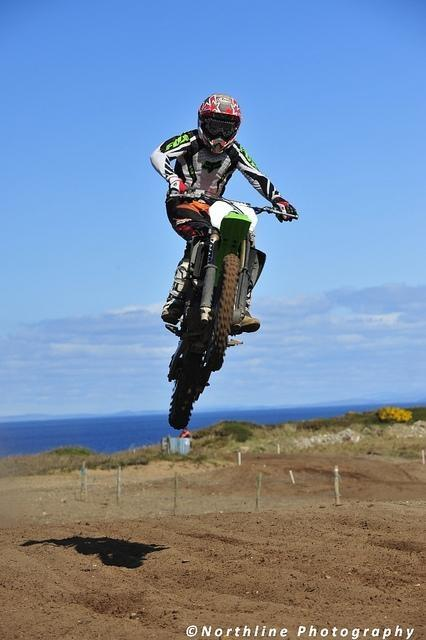motorcycle: (160, 181, 299, 431)
